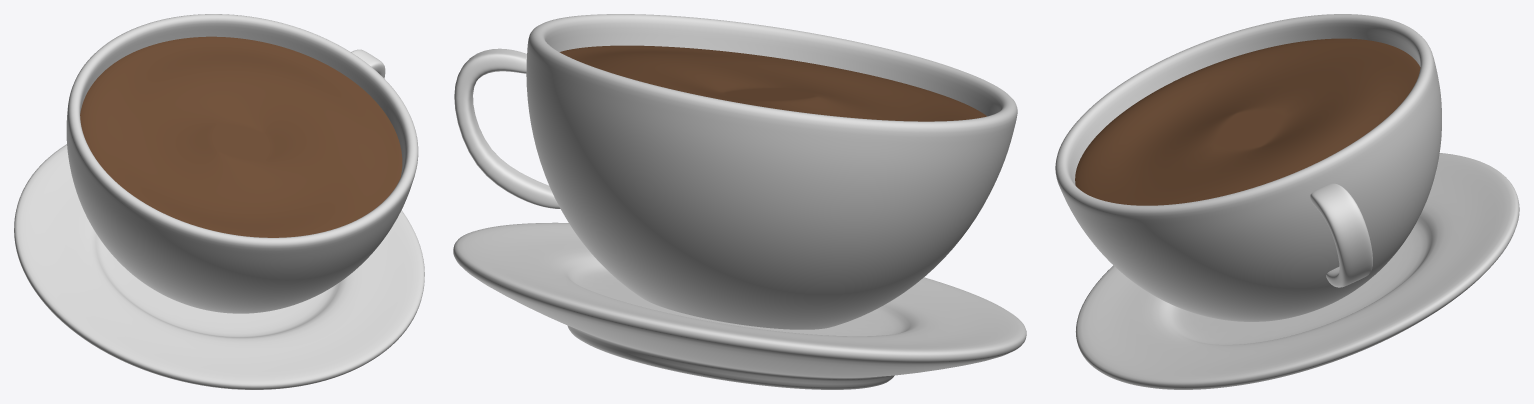
The model's file is mug.glb.
3 renders of one model, left to right at view 1: azimuth 30°, elevation 25°; view 2: azimuth 150°, elevation 25°; view 3: azimuth 270°, elevation 25°, orthographic. The views are drawn at different scales.
Visible parts, largest first — view 1: Sphere.008, Circle.019, Sphere.007, Cube.017; view 2: Sphere.007, Circle.019, Sphere.008, Cube.017; view 3: Sphere.007, Circle.019, Sphere.008, Cube.017.
Boxes of the visible parts, left/top/right/bottom form: Sphere.008: left=80, top=36, right=402, bottom=237; Circle.019: left=14, top=144, right=424, bottom=389; Sphere.007: left=66, top=14, right=418, bottom=313; Cube.017: left=351, top=49, right=385, bottom=78; Sphere.007: left=526, top=14, right=1017, bottom=329; Circle.019: left=453, top=222, right=1026, bottom=389; Sphere.008: left=559, top=45, right=986, bottom=121; Cube.017: left=454, top=48, right=560, bottom=208; Sphere.007: left=1055, top=14, right=1441, bottom=321; Circle.019: left=1075, top=153, right=1519, bottom=389; Sphere.008: left=1075, top=38, right=1420, bottom=205; Cube.017: left=1310, top=183, right=1372, bottom=287.
Size of the model in its own units: 5.75 by 3.93 by 5.7.
